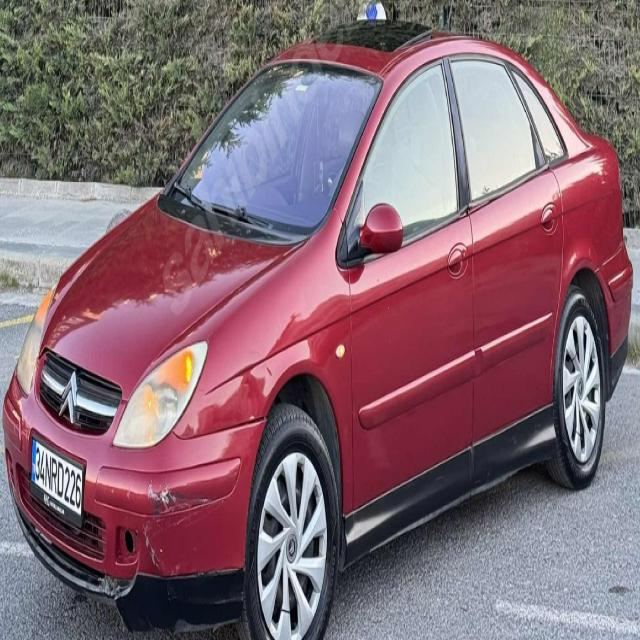citroen: (56, 354, 84, 436)
